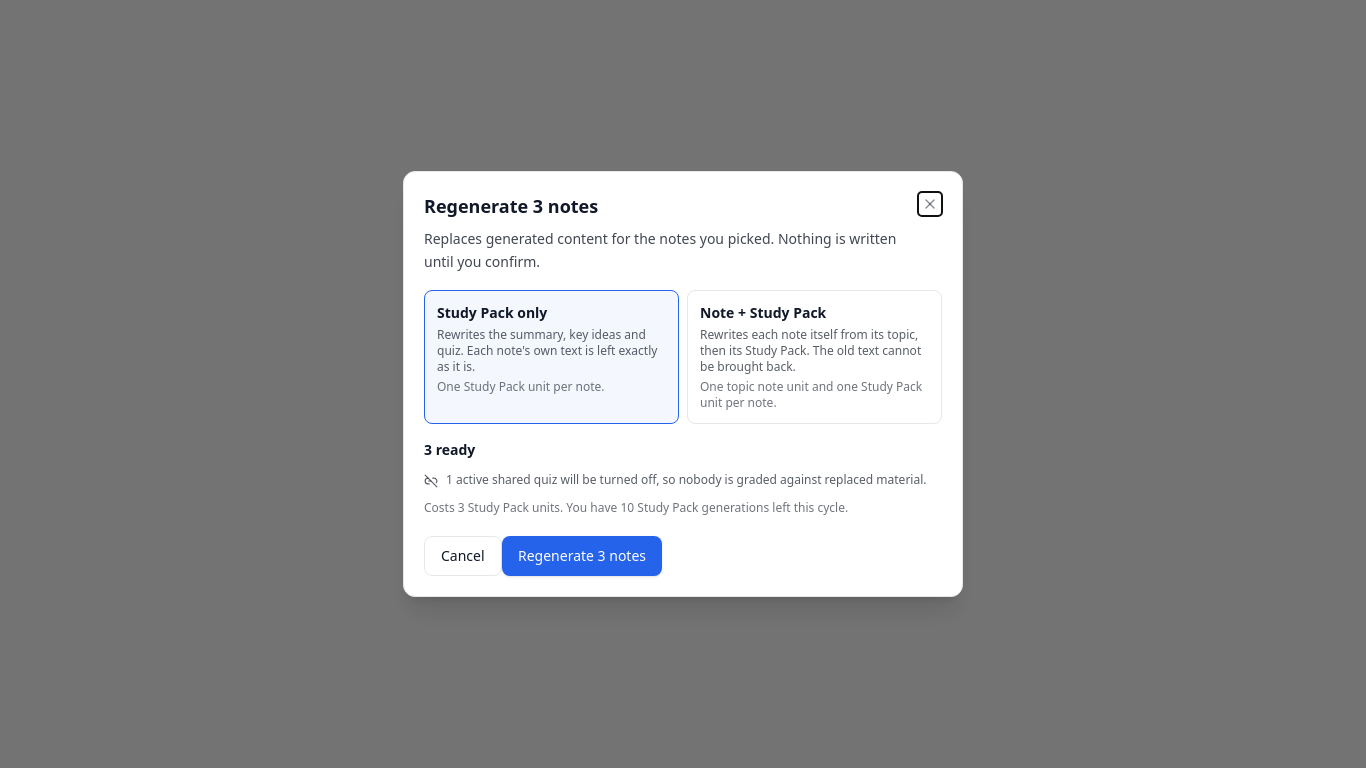
Test: BulkRegenerateModal › treats a 404 on the receipt as terminal: stops polling, clears the stored batch, and returns to preflight
This screenshot has width=1366, height=768.
Click the button "Regenerate 3 notes": (582, 556) [502,536,662,576]
Wait 5000 ms
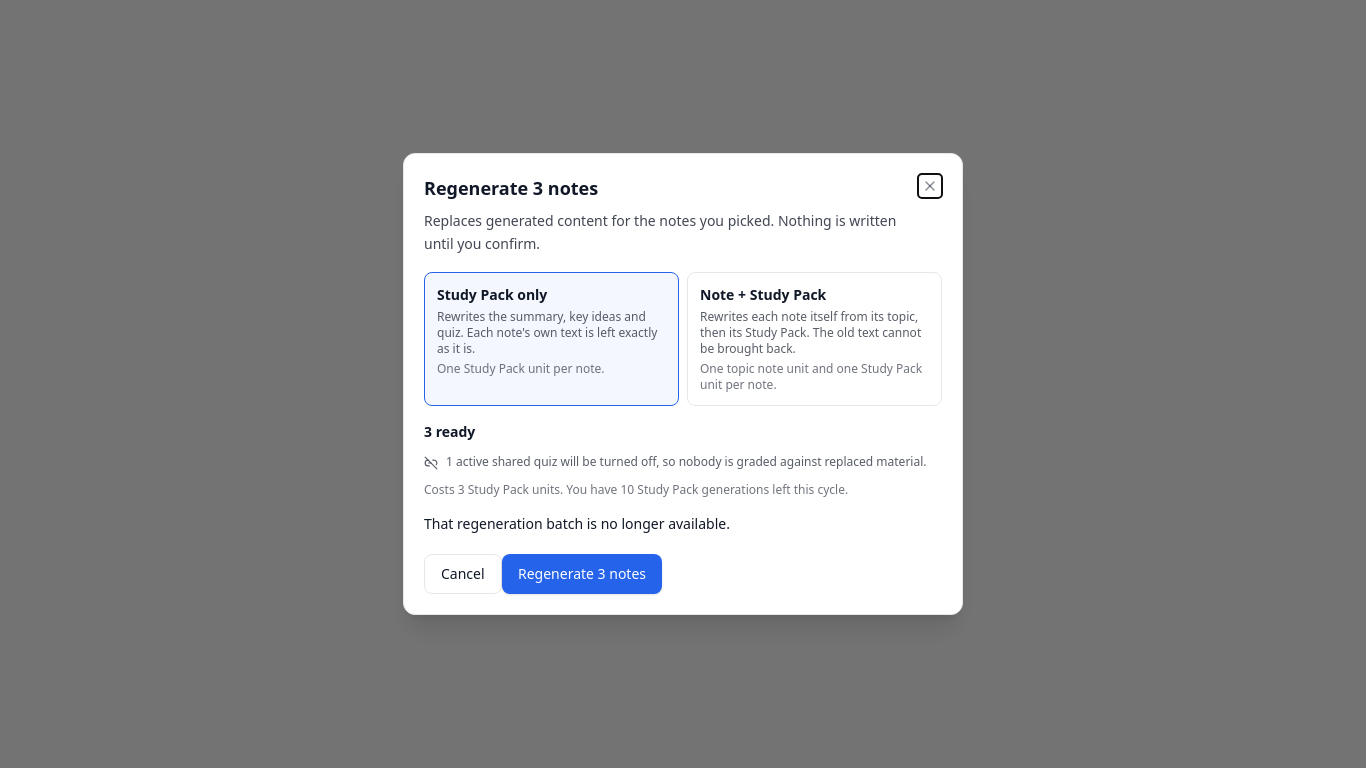
Expected: the button "Regenerate 3 notes" is shown, [502,554,662,594]
Expected: the text "That regeneration batch is no longer available." is shown, [424,514,730,533]
